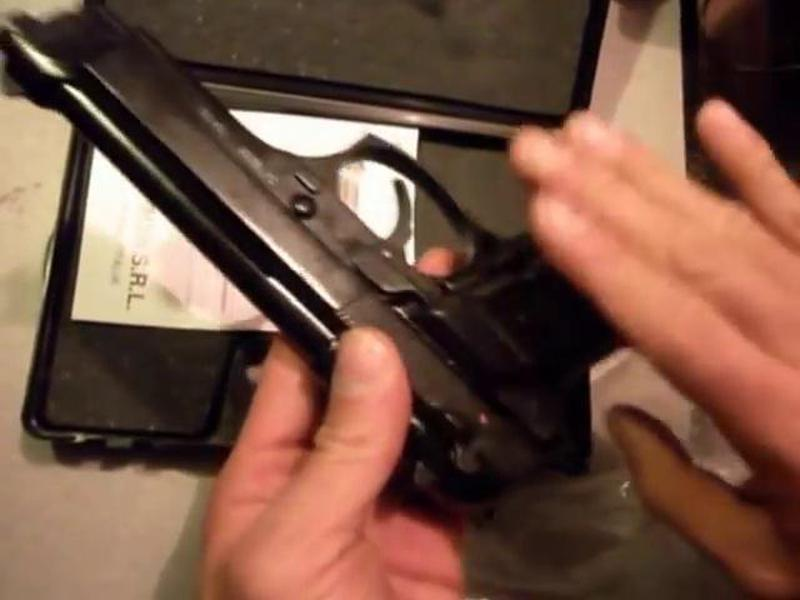Pistola: (37, 16, 637, 495)
